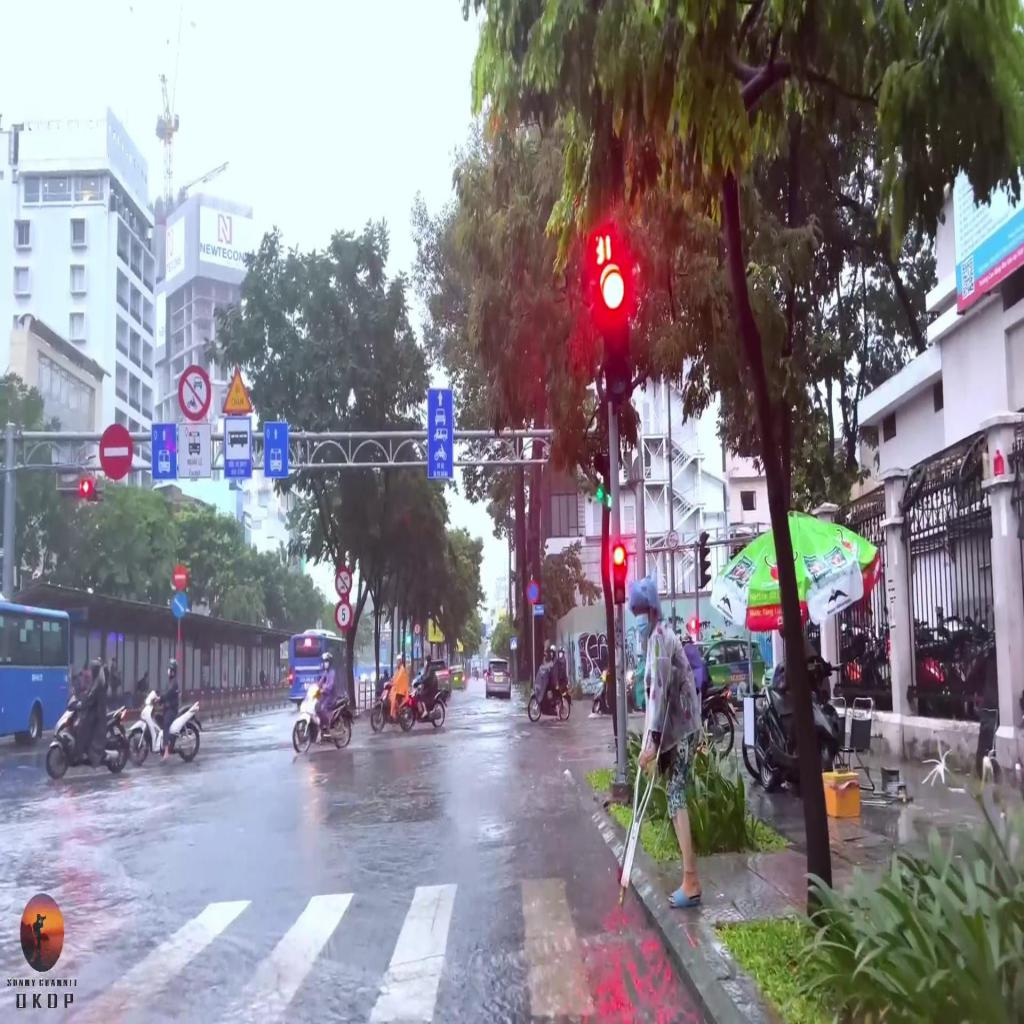cam_do_xe: (526, 580, 539, 604)
cam_xe_2_banh_va_xe_3_banh_co_dong_co: (335, 566, 352, 597)
cam_xe_di_nguoc_chieu: (99, 423, 132, 480), (174, 565, 186, 588)
di_cham: (222, 365, 252, 412)
huong_phai_di_vuot_chuong_ngai_vat_phai: (172, 592, 185, 616)
khac: (428, 389, 454, 480), (178, 364, 211, 421), (179, 423, 212, 479), (224, 419, 252, 479), (264, 422, 289, 476), (152, 425, 176, 479), (334, 599, 352, 631), (413, 622, 421, 635)
object: (510, 638, 516, 650)
